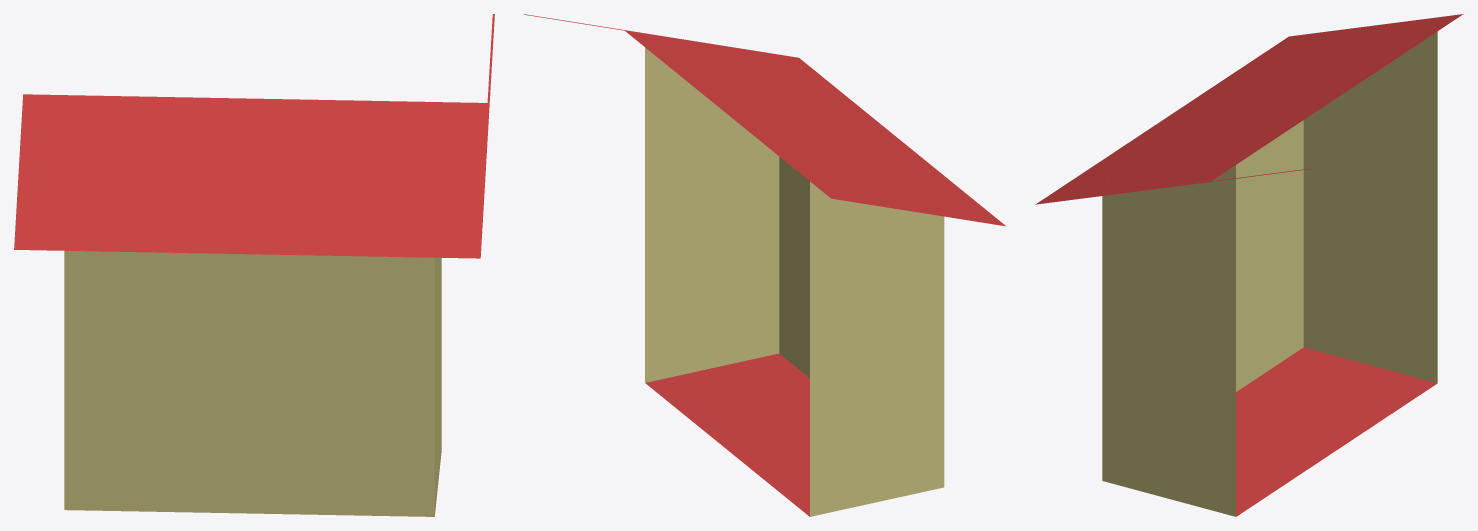
3 views of the same model, side by side, from view 1: azimuth 30°, elevation 25°; view 2: azimuth 150°, elevation 25°; view 3: azimuth 270°, elevation 25° (orthographic). The views are drawn at different scales.
Size of the model in its own units: 11.81 by 8.83 by 8.91.
